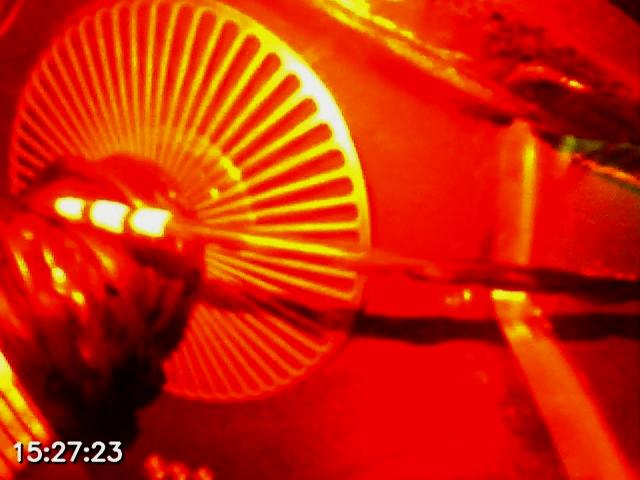white-dots: (53, 195, 172, 239)
